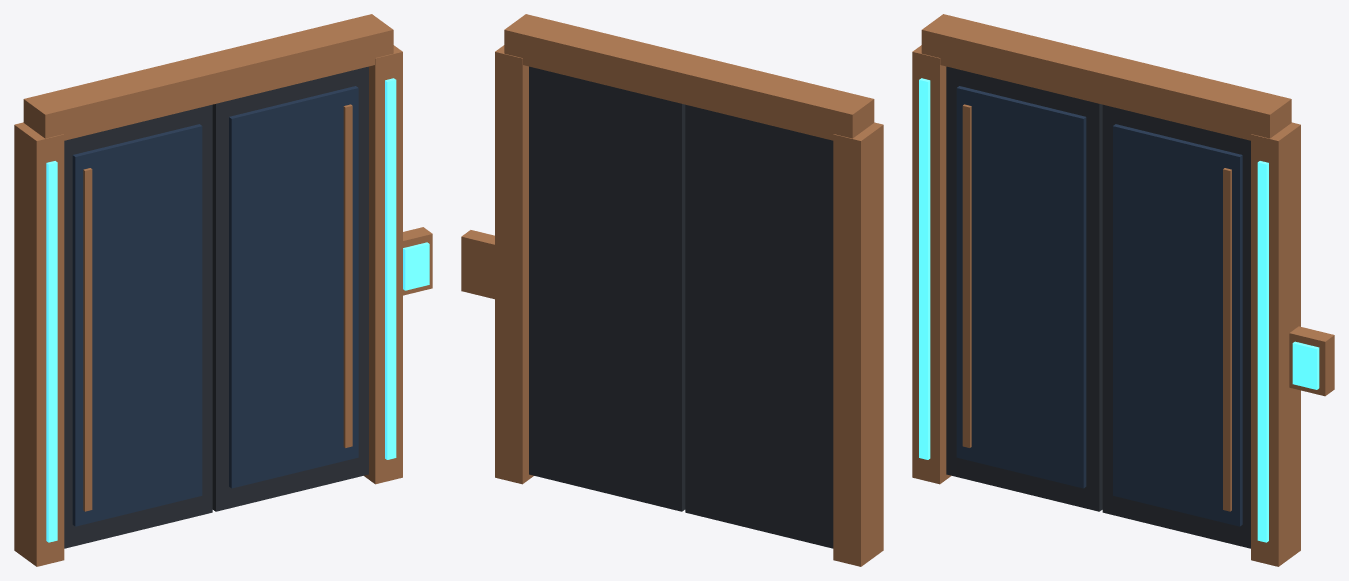
Rendered from entry_door.glb.
3 views of the same model, side by side, from view 1: azimuth 30°, elevation 25°; view 2: azimuth 150°, elevation 25°; view 3: azimuth 330°, elevation 25° (orthographic).
Visible parts, largest first — view 1: root_copper, door_left_navy, door_right_navy, door_right_charcoal, door_left_charcoal, root_blue, door_right_copper, door_left_copper; view 2: door_right_charcoal, door_left_charcoal, root_copper; view 3: root_copper, door_left_navy, door_right_navy, door_left_charcoal, door_right_charcoal, root_blue, door_left_copper, door_right_copper.
Boxes of the visible parts, left/top/right/bottom form: root_copper: left=14, top=14, right=432, bottom=566; door_left_navy: left=72, top=124, right=202, bottom=526; door_right_navy: left=229, top=86, right=358, bottom=488; door_right_charcoal: left=212, top=66, right=368, bottom=511; door_left_charcoal: left=64, top=104, right=212, bottom=548; root_blue: left=46, top=78, right=429, bottom=542; door_right_copper: left=343, top=104, right=352, bottom=447; door_left_copper: left=83, top=168, right=92, bottom=511; door_right_charcoal: left=529, top=66, right=685, bottom=511; door_left_charcoal: left=685, top=104, right=833, bottom=548; root_copper: left=461, top=14, right=883, bottom=566; root_copper: left=912, top=14, right=1334, bottom=566; door_left_navy: left=956, top=86, right=1086, bottom=488; door_right_navy: left=1113, top=124, right=1242, bottom=526; door_left_charcoal: left=946, top=66, right=1102, bottom=511; door_right_charcoal: left=1102, top=104, right=1250, bottom=548; root_blue: left=919, top=78, right=1319, bottom=542; door_left_copper: left=962, top=104, right=971, bottom=447; door_right_copper: left=1223, top=168, right=1231, bottom=511.
Size of the model in its own units: 2.49 by 2.64 by 0.2675.
